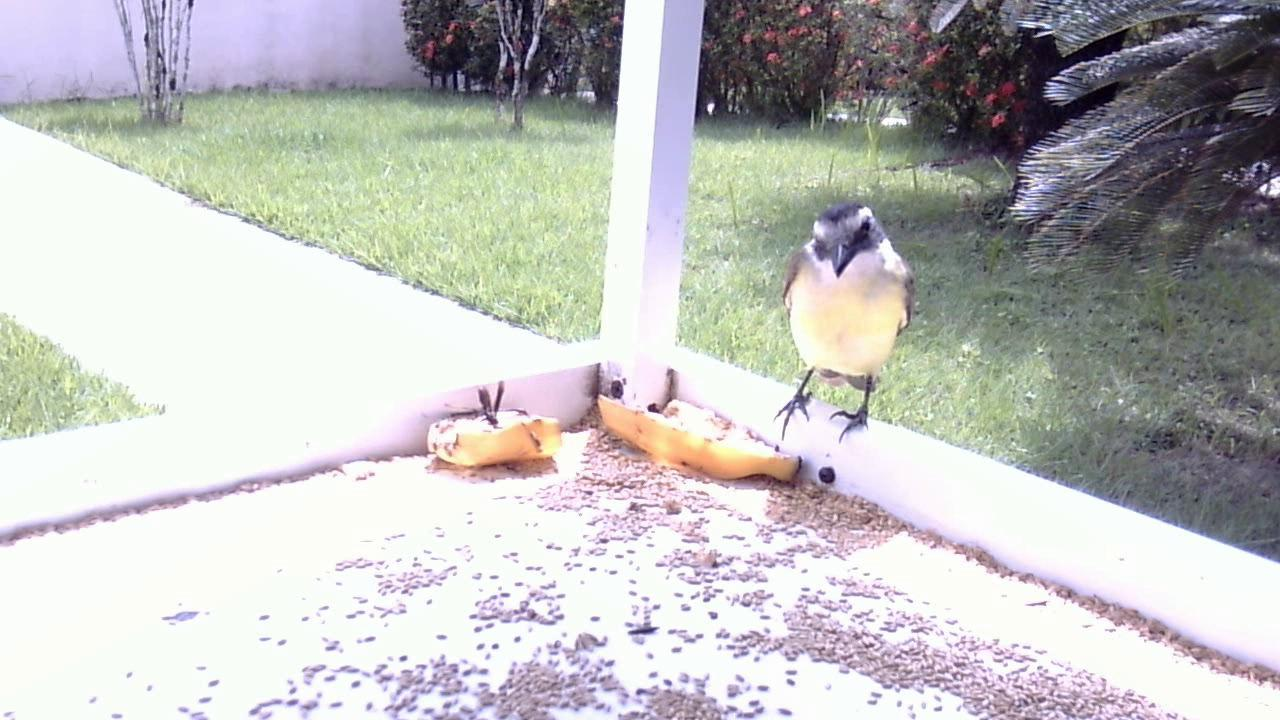bem_te_vi: (764, 197, 922, 461)
